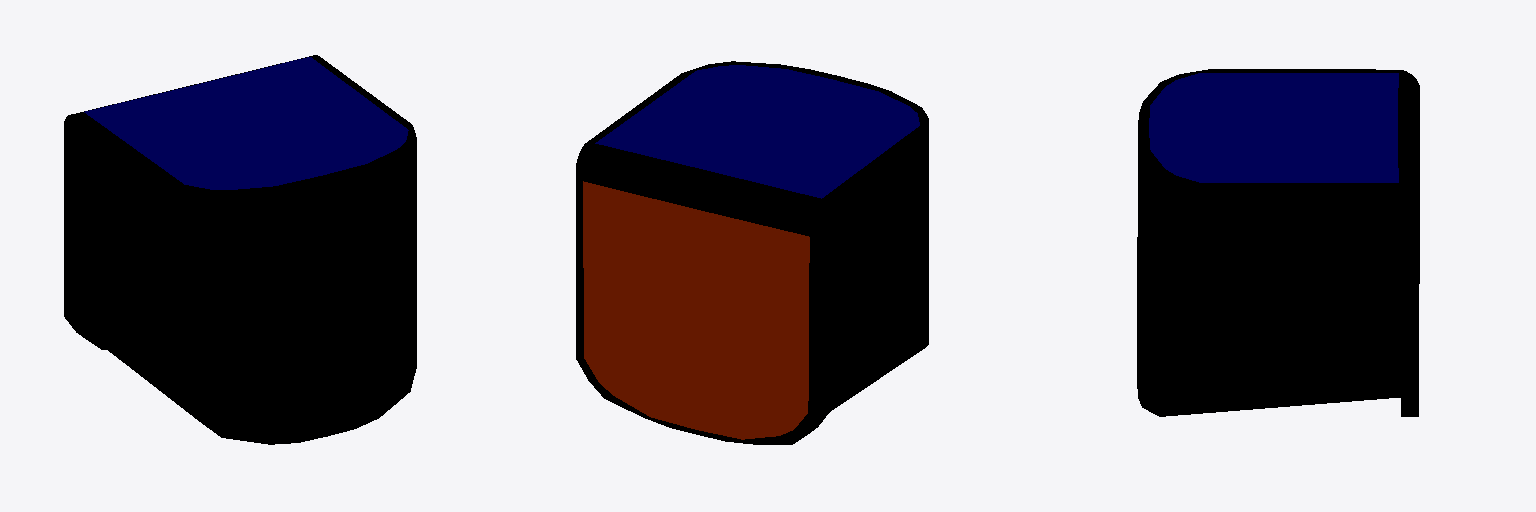
File: edgeBO.obj
3 renders of one model, left to right at view 1: azimuth 30°, elevation 25°; view 2: azimuth 150°, elevation 25°; view 3: azimuth 270°, elevation 25°, orthographic.
Visible parts, largest first — view 1: BasicEdge_Plane.006, EdgeSide1_Plane.008; view 2: EdgeSide2_Plane.009, BasicEdge_Plane.006, EdgeSide1_Plane.008; view 3: BasicEdge_Plane.006, EdgeSide1_Plane.008.
Boxes of the visible parts, x1,y1,x2,y2 form: BasicEdge_Plane.006: [64, 55, 416, 444]; EdgeSide1_Plane.008: [84, 57, 408, 189]; EdgeSide2_Plane.009: [583, 181, 809, 439]; BasicEdge_Plane.006: [576, 61, 928, 444]; EdgeSide1_Plane.008: [595, 65, 919, 198]; BasicEdge_Plane.006: [1137, 69, 1419, 416]; EdgeSide1_Plane.008: [1149, 73, 1398, 182].
Bounding box in the file's own units: 0.18 × 0.1802 × 0.182.